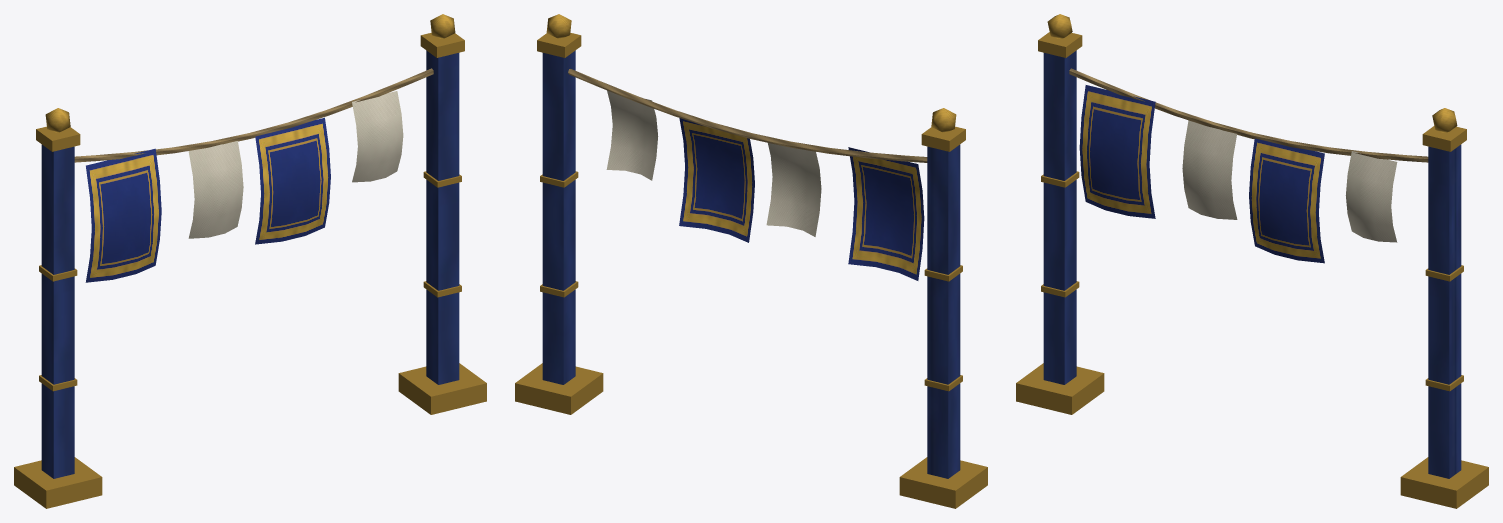
The model's file is prop_waslijn_blue.glb.
3 views of the same model, side by side, from view 1: azimuth 30°, elevation 25°; view 2: azimuth 150°, elevation 25°; view 3: azimuth 330°, elevation 25° (orthographic).
Parts seen in each view (by area): view 1: prop_waslijn_blue; view 2: prop_waslijn_blue; view 3: prop_waslijn_blue.
Boxes of the visible parts, <box> form: prop_waslijn_blue: <box>14,14,486,508</box>; prop_waslijn_blue: <box>515,14,987,508</box>; prop_waslijn_blue: <box>1016,14,1488,508</box>.
Size of the model in its own units: 1.26 by 1.04 by 0.16.
Materials: 1 (1 with a texture image).
